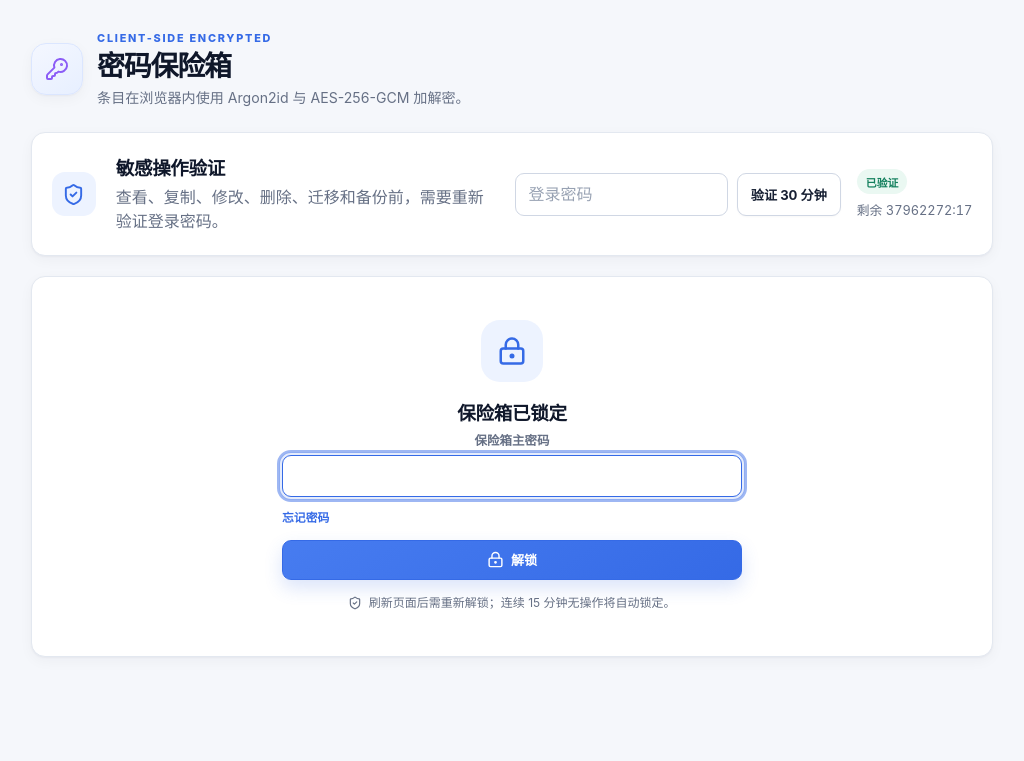
Scenario: vault complete loading, pagination and favorites › sorts cards by name with natural case-insensitive ordering
The width and height of the screenshot is (1024, 761).
In the password field labelled "保险箱主密码": (512, 476) [282, 455, 742, 497], type "long-master-password"
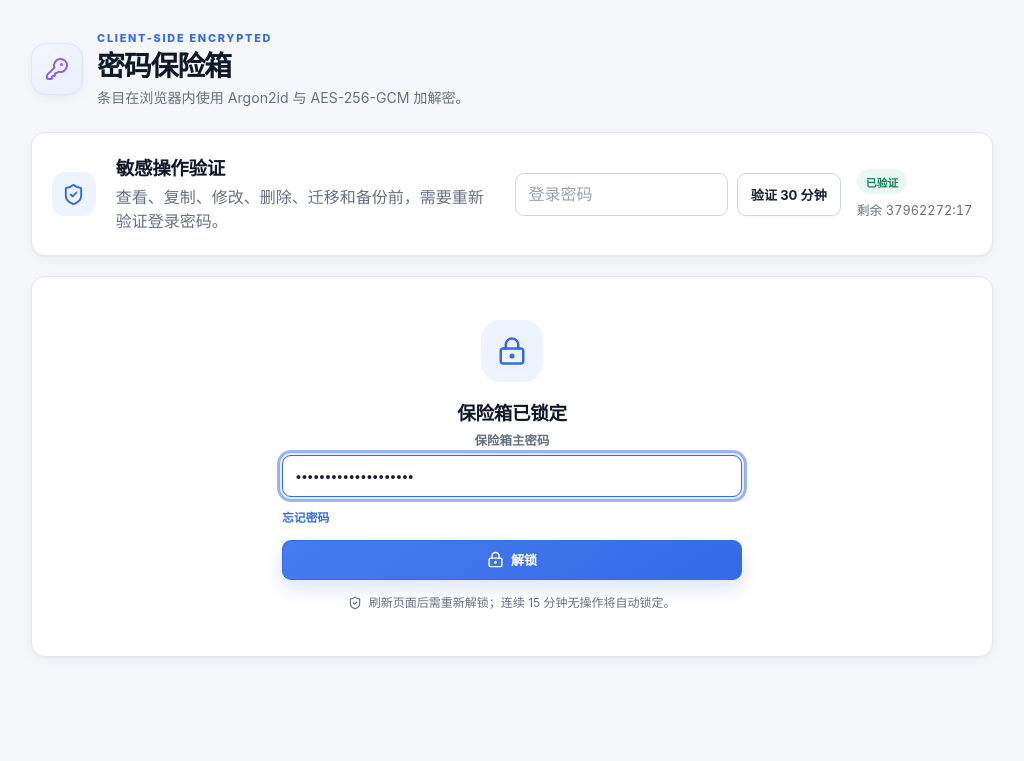
Submit the form labelled "保险箱主密码", box [282, 431, 742, 580]
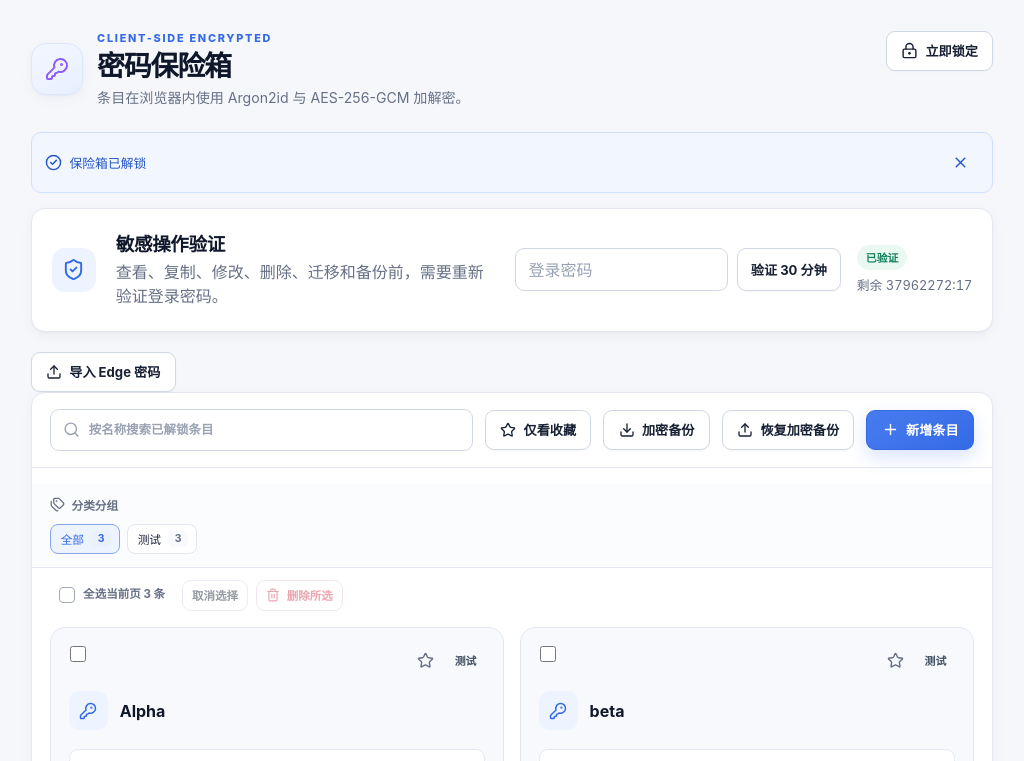
Expected: the text "保险箱已解锁" is shown, [45, 153, 146, 172]
Expected: the heading "Alpha" is shown, [120, 701, 165, 721]
